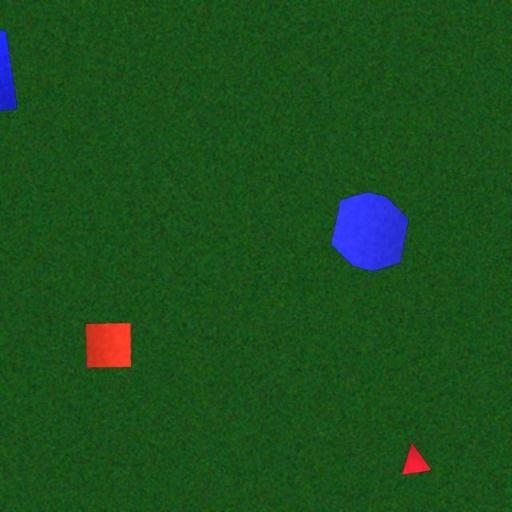RED_SQUARE: (85, 322, 132, 368)
